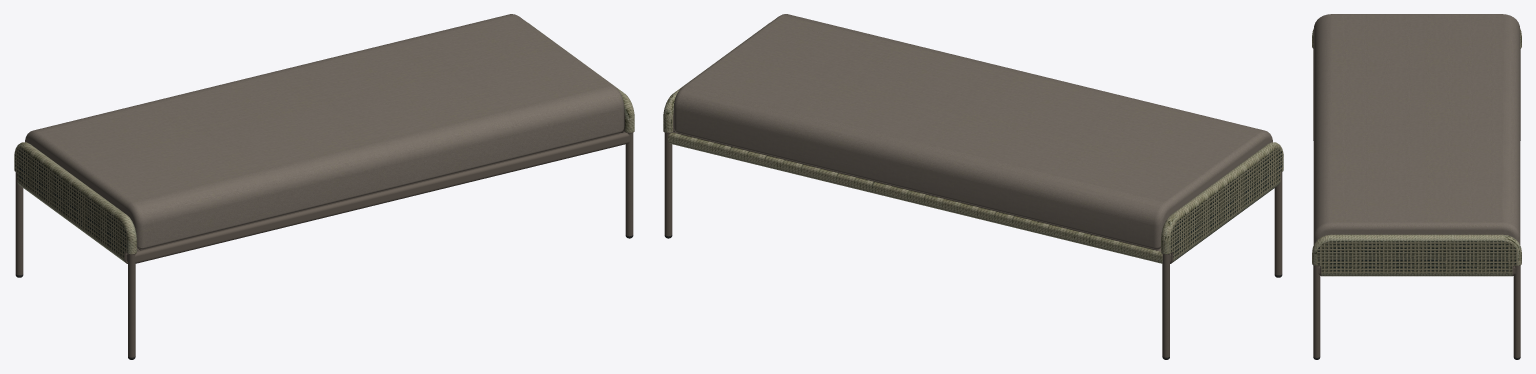
Rendered from modell.gltf.
The picture shows the model from 3 angles, left to right: view 1: azimuth 30°, elevation 25°; view 2: azimuth 150°, elevation 25°; view 3: azimuth 270°, elevation 25°; orthographic projection. The views are drawn at different scales.
Parts seen in each view (by area): view 1: Komponen17, Komponen02, skp18F1, Komponen11, Komponen07, Komponente, Komponen05; view 2: Komponen17, Komponen09, skp18F1, Komponen15, Komponente, Komponen07, Komponen05; view 3: Komponen17, Komponen10, Komponen11, Komponen15.
Boxes of the visible parts, left/top/right/bottom form: Komponen17: left=25, top=14, right=624, bottom=249; Komponen02: left=135, top=132, right=629, bottom=263; skp18F1: left=14, top=142, right=136, bottom=263; Komponen11: left=625, top=133, right=633, bottom=236; Komponen07: left=15, top=172, right=23, bottom=275; Komponente: left=128, top=254, right=135, bottom=357; Komponen05: left=137, top=133, right=620, bottom=250; Komponen17: left=673, top=14, right=1272, bottom=249; Komponen09: left=668, top=132, right=1162, bottom=263; skp18F1: left=1161, top=142, right=1283, bottom=263; Komponen15: left=664, top=133, right=672, bottom=236; Komponente: left=1274, top=172, right=1282, bottom=275; Komponen07: left=1162, top=254, right=1169, bottom=357; Komponen05: left=677, top=133, right=1160, bottom=250; Komponen17: left=1313, top=14, right=1520, bottom=244; Komponen10: left=1312, top=234, right=1521, bottom=276; Komponen11: left=1313, top=265, right=1320, bottom=357; Komponen15: left=1513, top=265, right=1520, bottom=357.
Bounding box in the file's own units: 1.68 × 0.47 × 0.674.
Materials: 6 (5 with a texture image).
